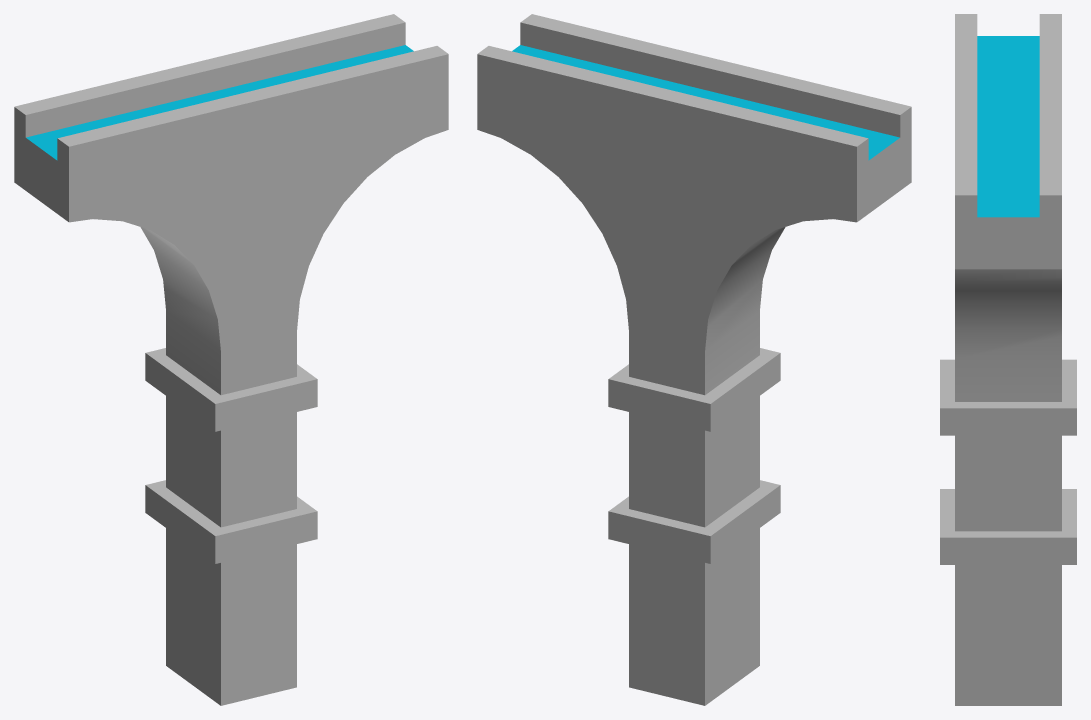
File: Aqueduct.fbx
3 renders of one model, left to right at view 1: azimuth 30°, elevation 25°; view 2: azimuth 150°, elevation 25°; view 3: azimuth 270°, elevation 25°, orthographic. The views are drawn at different scales.
Parts seen in each view (by area): view 1: Acueducto; view 2: Acueducto; view 3: Acueducto.
Boxes of the visible parts, x1,y1,x2,y2 form: Acueducto: (14,14,448,705); Acueducto: (477,14,911,705); Acueducto: (940,14,1076,705).
Size of the model in its own units: 100 by 150 by 31.89.
